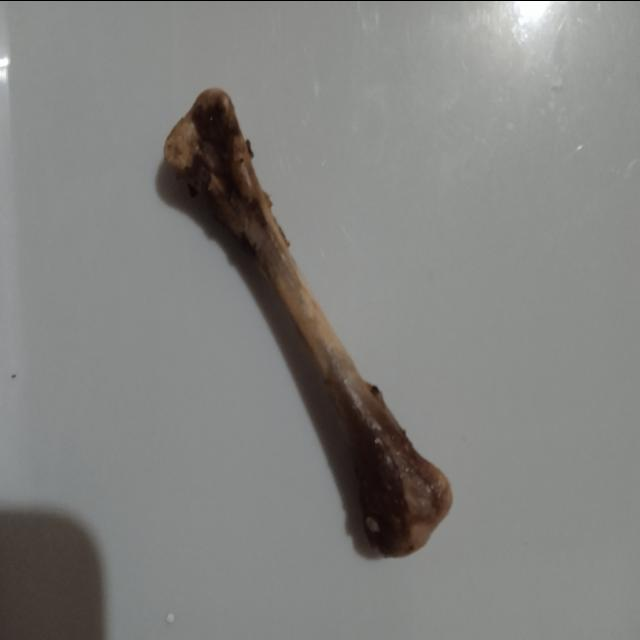bone: (154, 79, 460, 572)
